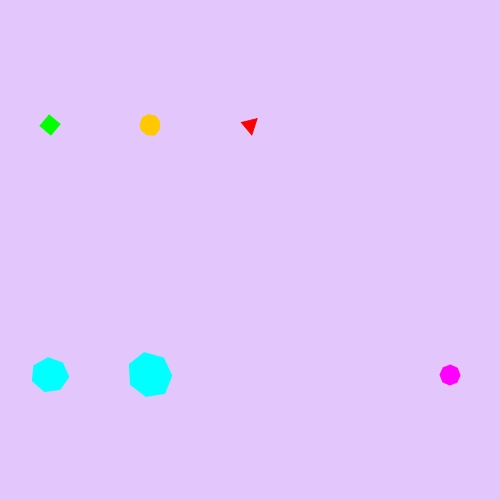heptagon: (124, 350, 177, 401), (28, 354, 72, 397)
nonagon: (135, 111, 165, 140)
octagon: (435, 360, 465, 390)
quadrilateral: (35, 110, 65, 140)
triangle: (238, 112, 263, 138)
